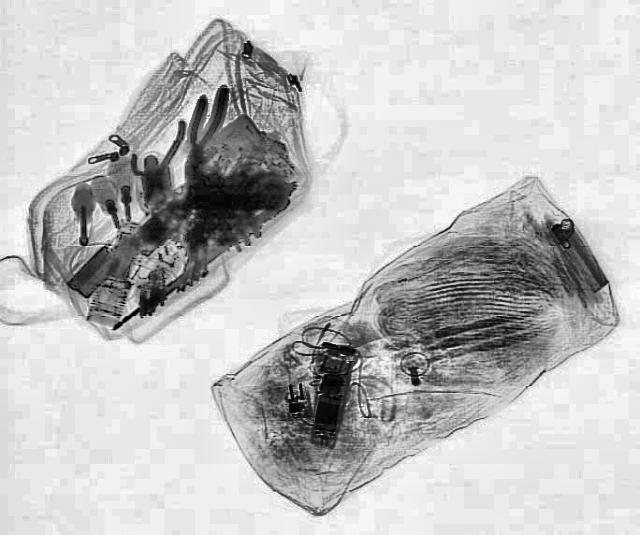Pliers: (175, 84, 229, 180)
